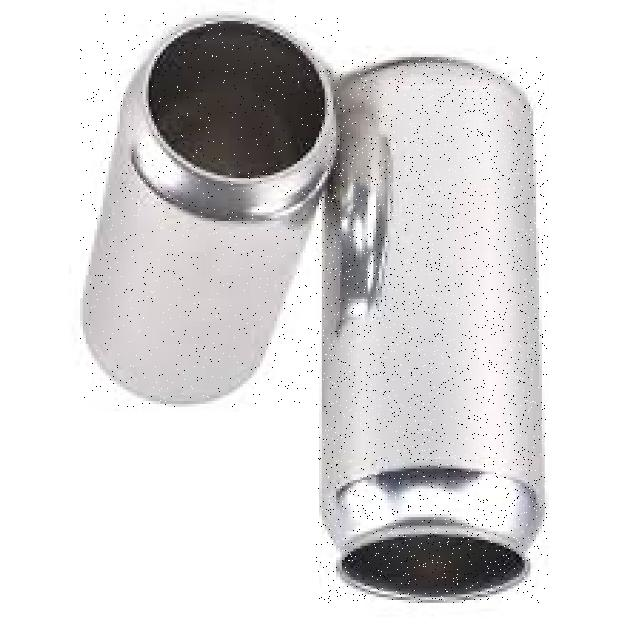metal: (317, 57, 548, 603), (80, 12, 340, 406)
